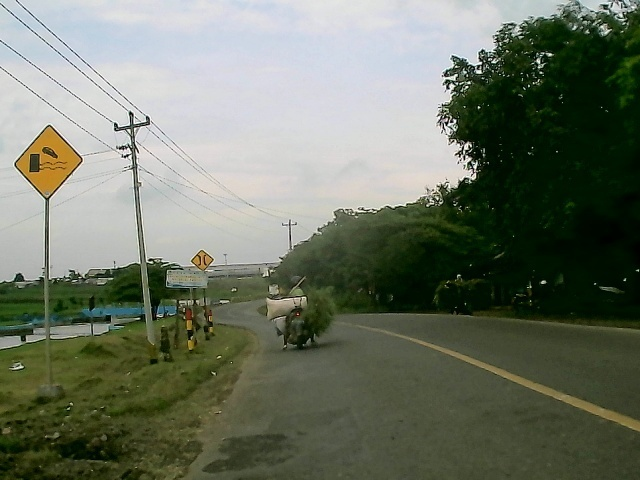Jembatan: (188, 249, 216, 274)
Peringatan tepi air: (11, 123, 86, 206)
